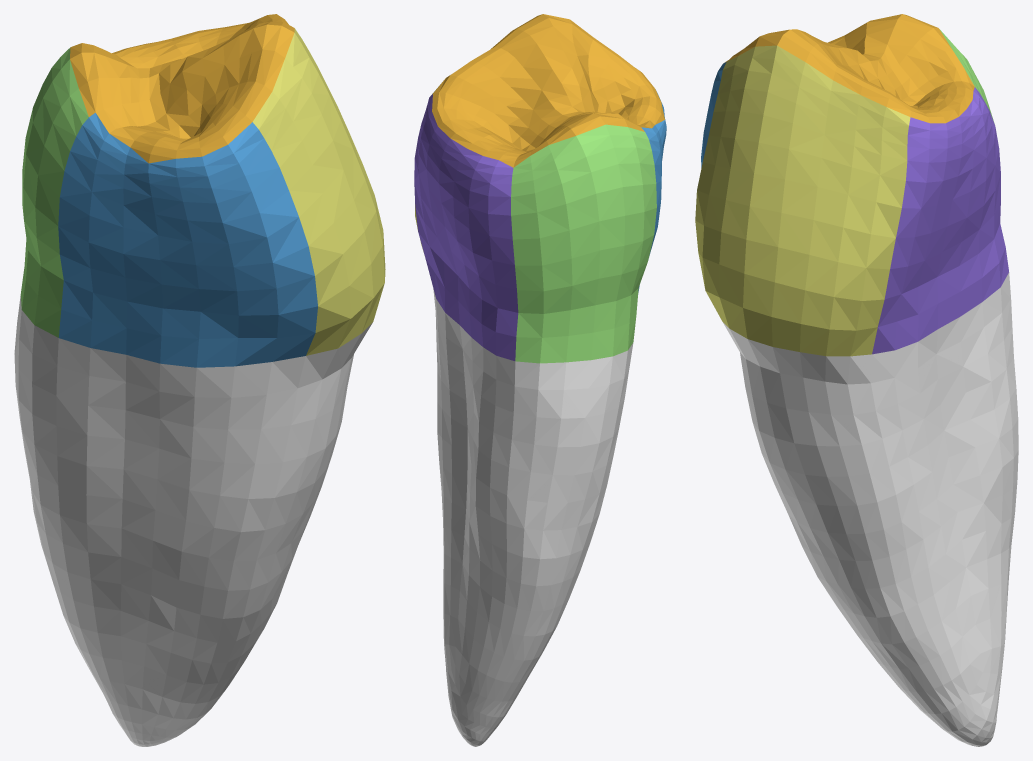
The model's file is tooth_34_annotated.glb.
The picture shows the model from 3 angles, left to right: view 1: azimuth 30°, elevation 25°; view 2: azimuth 150°, elevation 25°; view 3: azimuth 270°, elevation 25°; orthographic projection. The views are drawn at different scales.
Visible parts, largest first — view 1: FDI_34; view 2: FDI_34; view 3: FDI_34.
Boxes of the visible parts, box(x1,y1,x2,y2) form: FDI_34: box(14, 14, 385, 746); FDI_34: box(414, 14, 666, 746); FDI_34: box(695, 14, 1018, 746).
Bounding box in the file's own units: 0.00773 × 0.0197 × 0.008.
